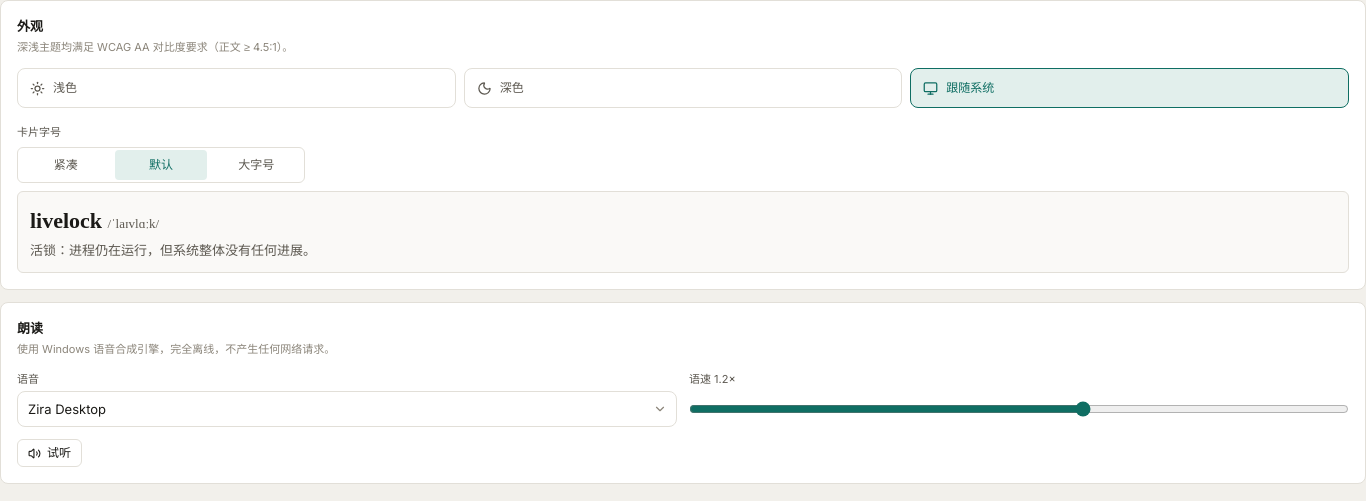
it: the voice and the preview in the appearance settings › says why a preview failed, and can be tried again
This screenshot has width=1366, height=501.
Click the button "试听" at [50, 453], box [17,439,82,467]
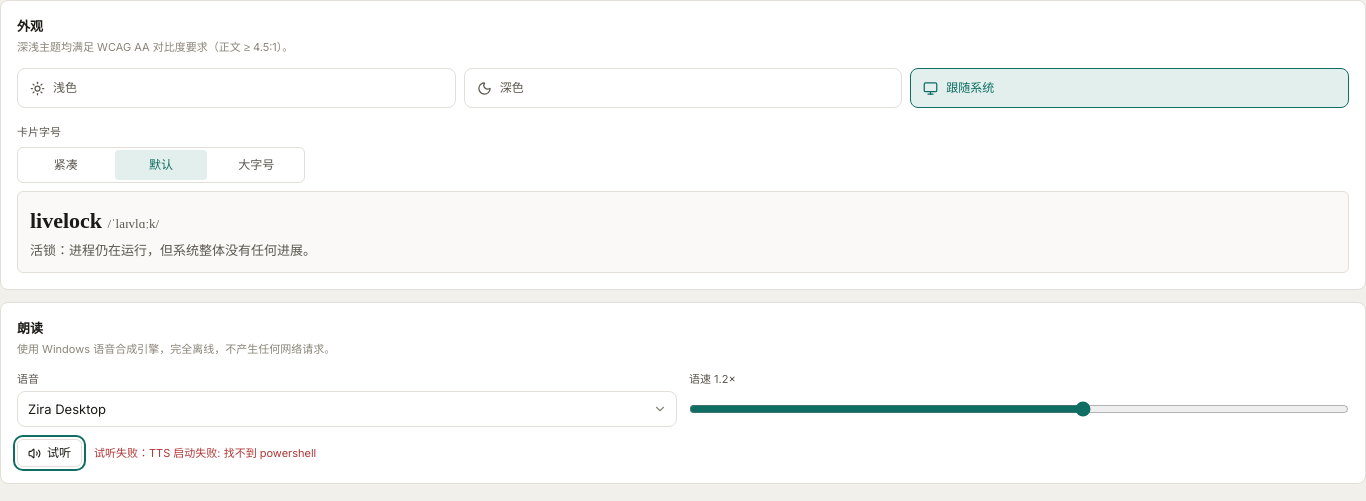
Result: the message reads "试听失败：TTS 启动失败: 找不到 powershell" at [94,445,316,462]
Click the button "试听" at [50, 453], box [17,439,82,467]
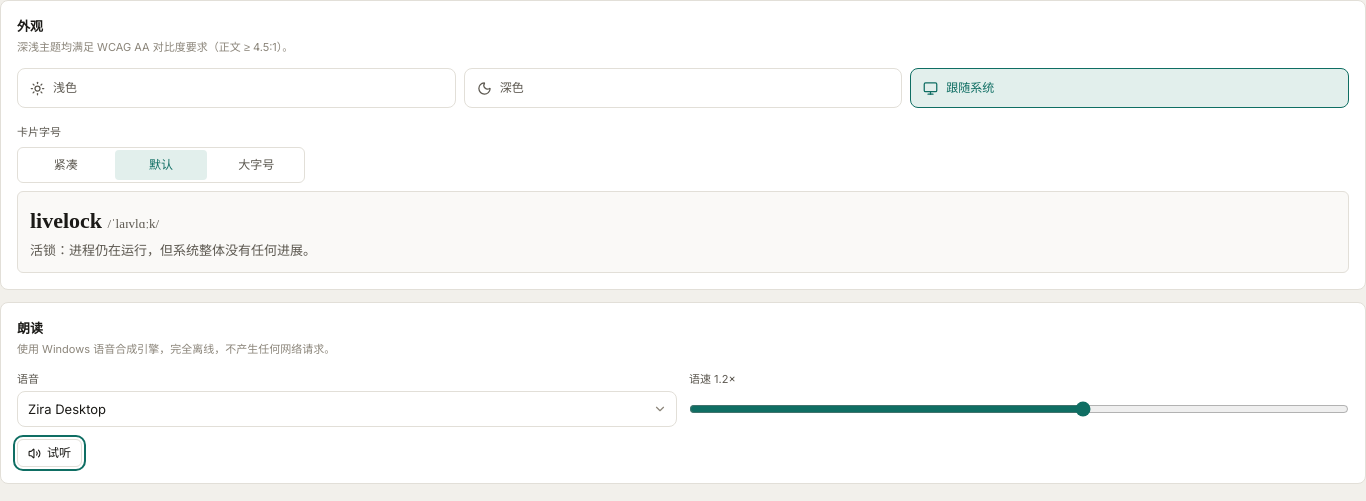
Result: the message "试听失败：TTS 启动失败: 找不到 powershell" is gone
